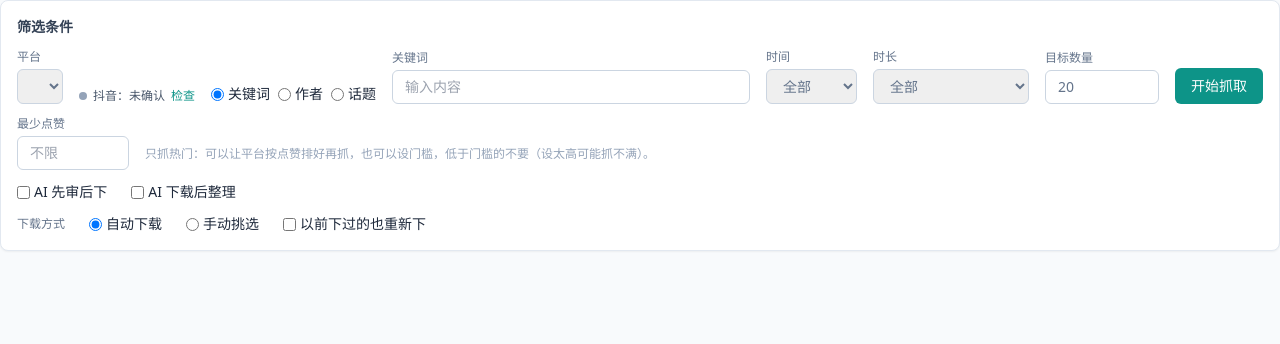
视频时长筛选 › 自定义范围 -20 无效时提示并禁止抓取
The width and height of the screenshot is (1280, 344).
Select "自定义" in the dropdown labelled "时长": [951, 86] box [873,69,1029,104]
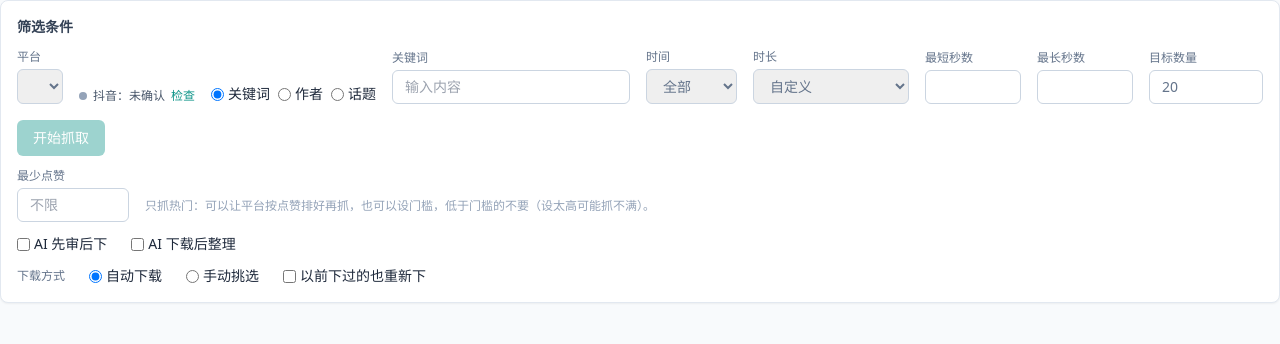
In the number field labelled "最长秒数": [1085, 87] box [1037,70,1133,104], type "20"
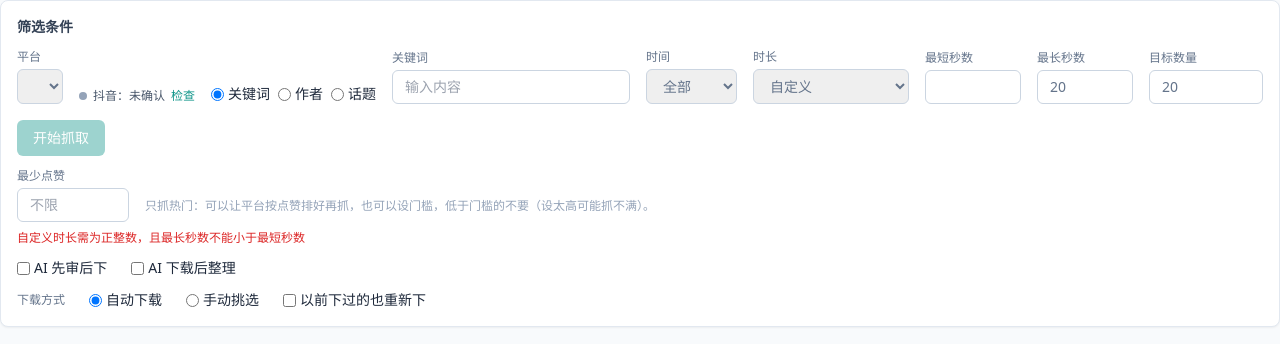
Now the button "开始抓取" is disabled, box [17,120,105,156]
Now the text "自定义时长需为正整数，且最长秒数不能小于最短秒数" is shown, box [17,229,305,246]
